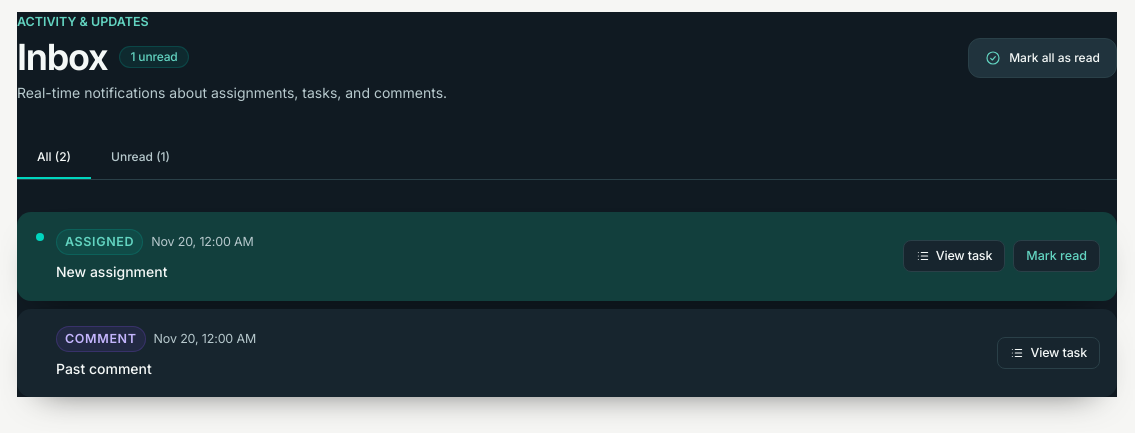
Inbox notification states › shows readable read and unread cards and filters unread items
The width and height of the screenshot is (1135, 433).
Click the button "Unread (1)" at (140, 158), box [91, 137, 190, 179]
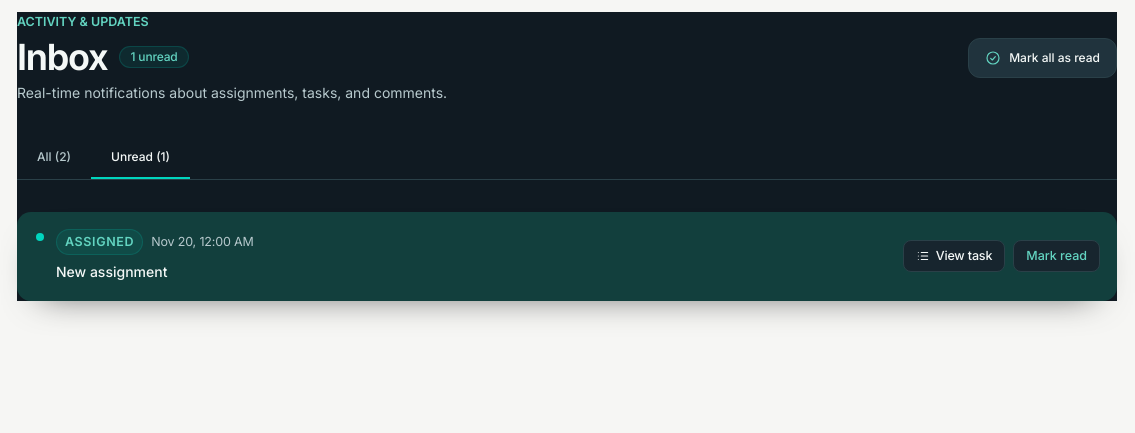
Expected: the text "New assignment" is shown, [56, 263, 167, 280]
Now the text "Past comment" is gone
